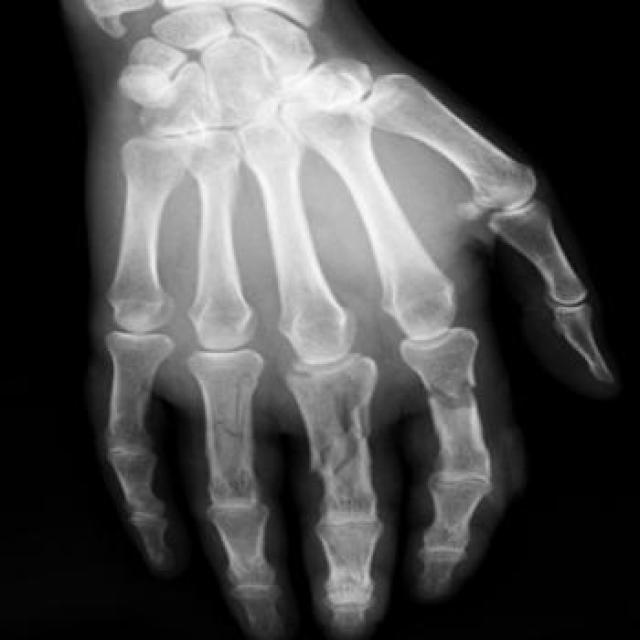Fracture: (183, 366, 278, 484), (289, 372, 377, 486), (409, 370, 491, 424)
